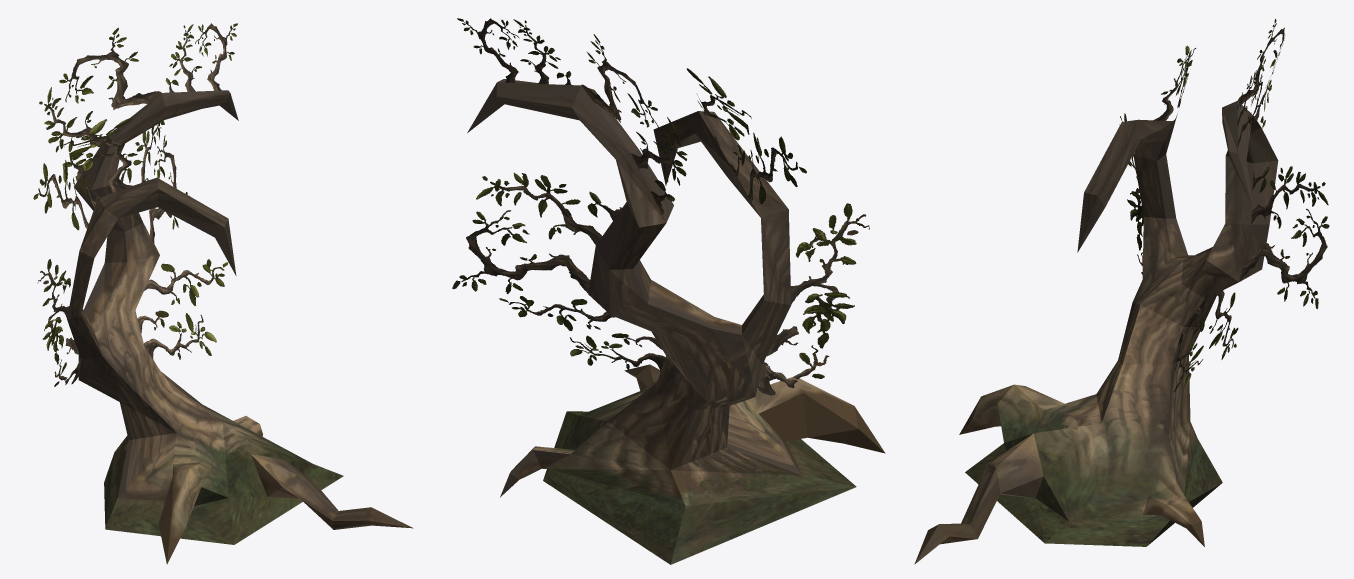
Rendered from plants_gnarled_tree_trunks02.fbx.
3 views of the same model, side by side, from view 1: azimuth 30°, elevation 25°; view 2: azimuth 150°, elevation 25°; view 3: azimuth 270°, elevation 25° (orthographic). The views are drawn at different scales.
Visible parts, largest first — view 1: obj0.130; view 2: obj0.130; view 3: obj0.130.
Part boxes in pixels (<box>): obj0.130: <box>33,23,413,564</box>; obj0.130: <box>452,18,885,564</box>; obj0.130: <box>914,19,1329,564</box>.
Bounding box in the file's own units: 6.85 × 9.87 × 7.65.
